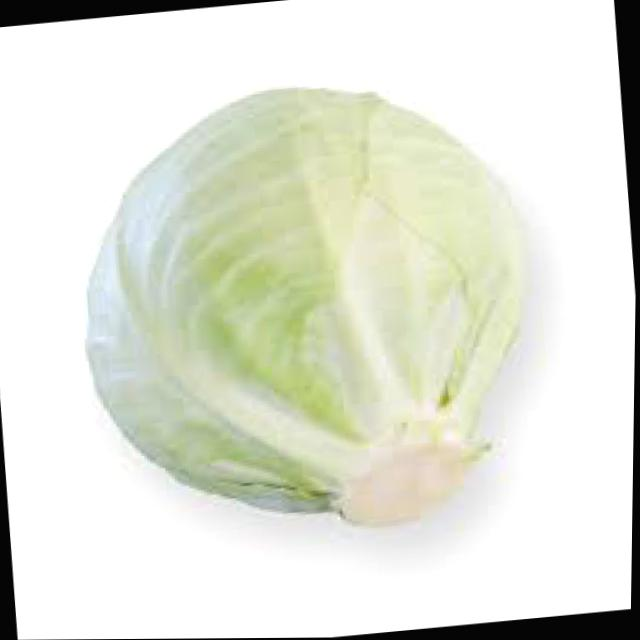Cabbage: (64, 69, 545, 553)
